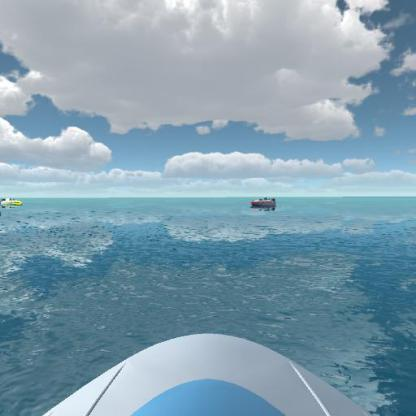usv2: (0, 192, 28, 210)
usv3: (246, 193, 280, 211)
